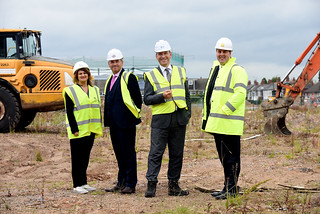Helmet: (151, 37, 177, 68), (104, 46, 130, 75), (212, 35, 237, 65), (70, 59, 94, 88)
Reflective vest: (201, 60, 246, 136), (61, 83, 105, 142), (144, 64, 190, 118)
